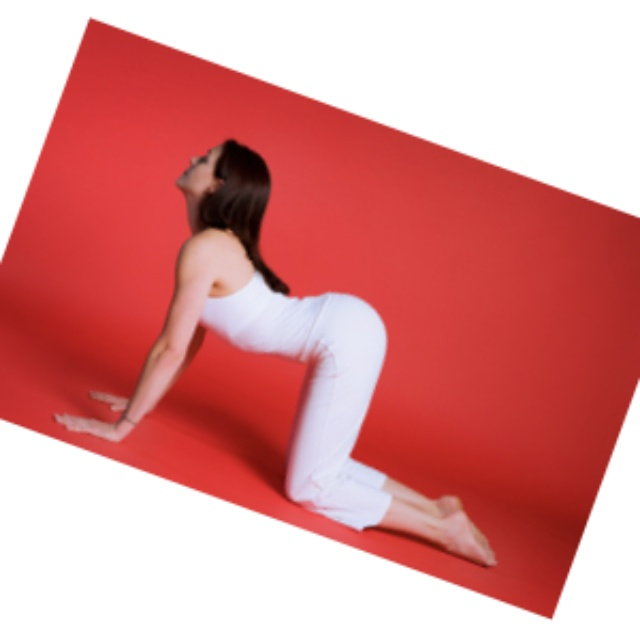Cow_Pose: (53, 137, 501, 568)
